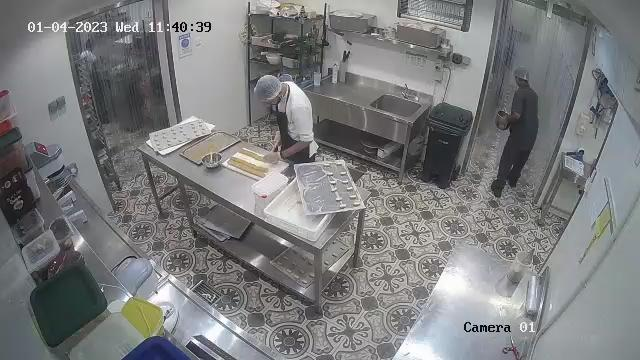apron: (262, 149, 285, 166), (499, 114, 512, 126)
gloves: (252, 74, 284, 102), (511, 64, 530, 82)
no_hairnet: (262, 94, 286, 106)
